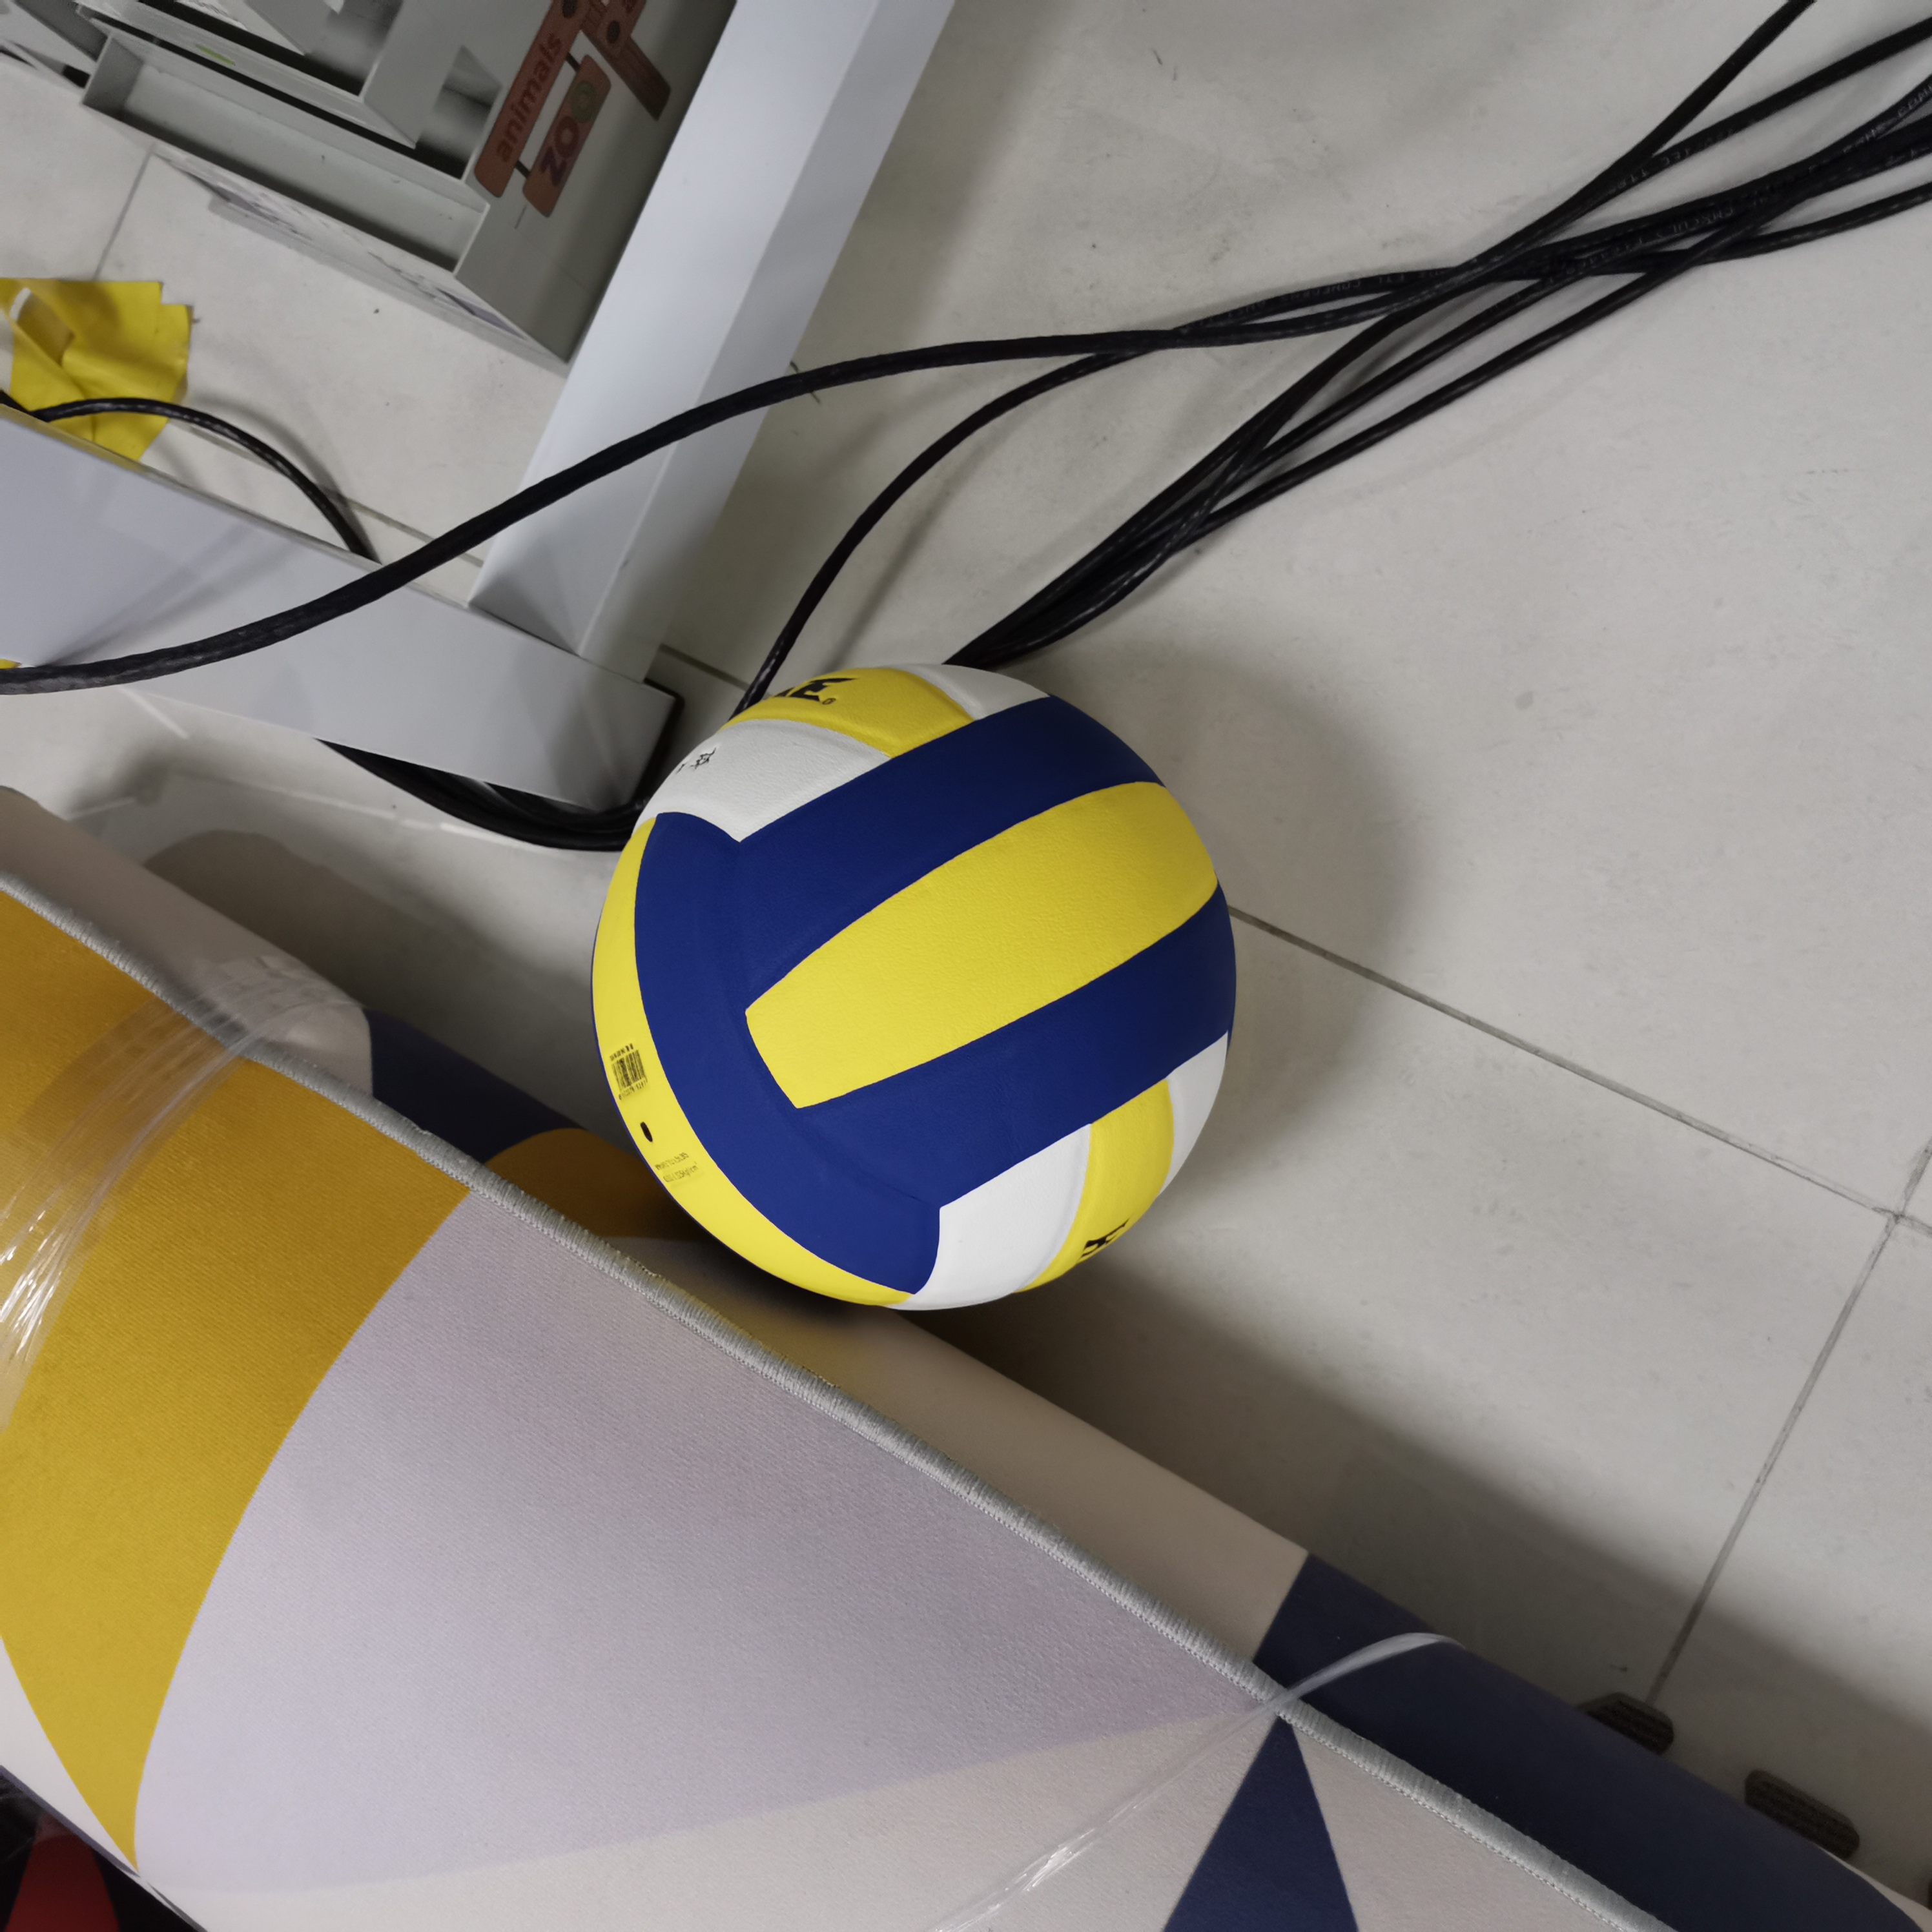volleyball: (607, 662, 1228, 1306)
